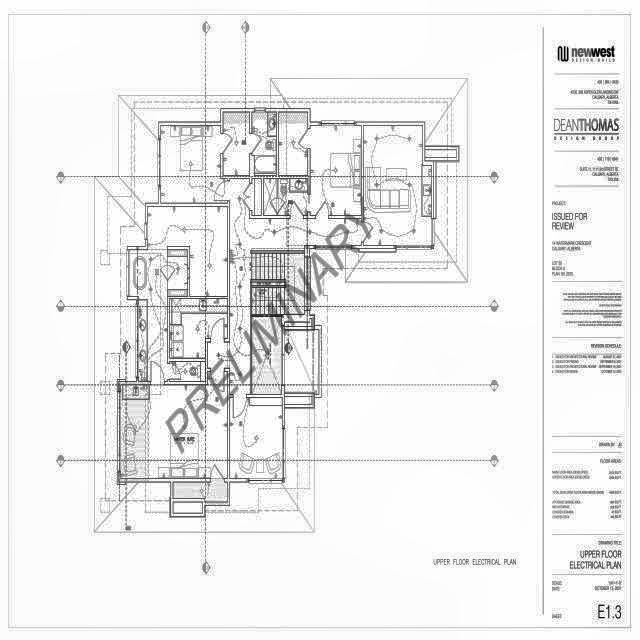room: (121, 372, 227, 478), (364, 126, 432, 245), (161, 125, 227, 203), (310, 125, 361, 215), (230, 398, 282, 479), (170, 299, 227, 358), (252, 317, 281, 394), (279, 112, 308, 175), (223, 112, 250, 175), (252, 112, 276, 175), (278, 179, 308, 215), (168, 250, 187, 296), (170, 362, 205, 381)
